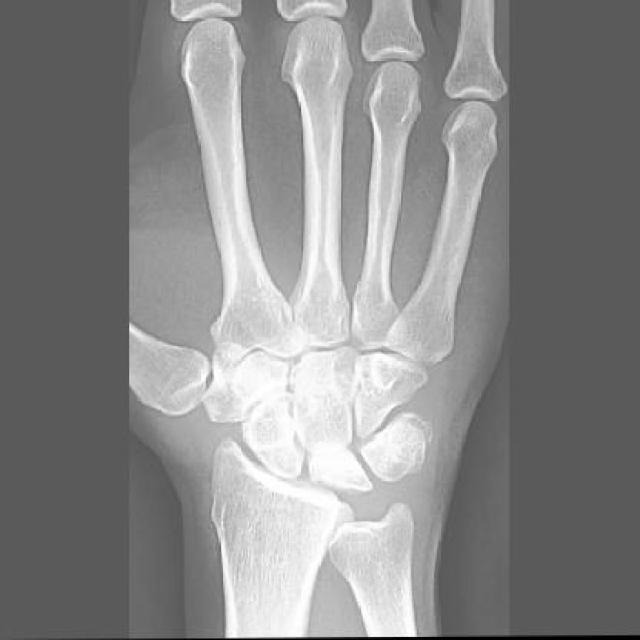bone: (308, 446, 362, 476)
